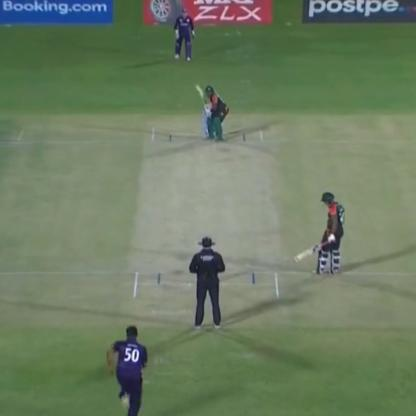pitch: (120, 121, 284, 304)
